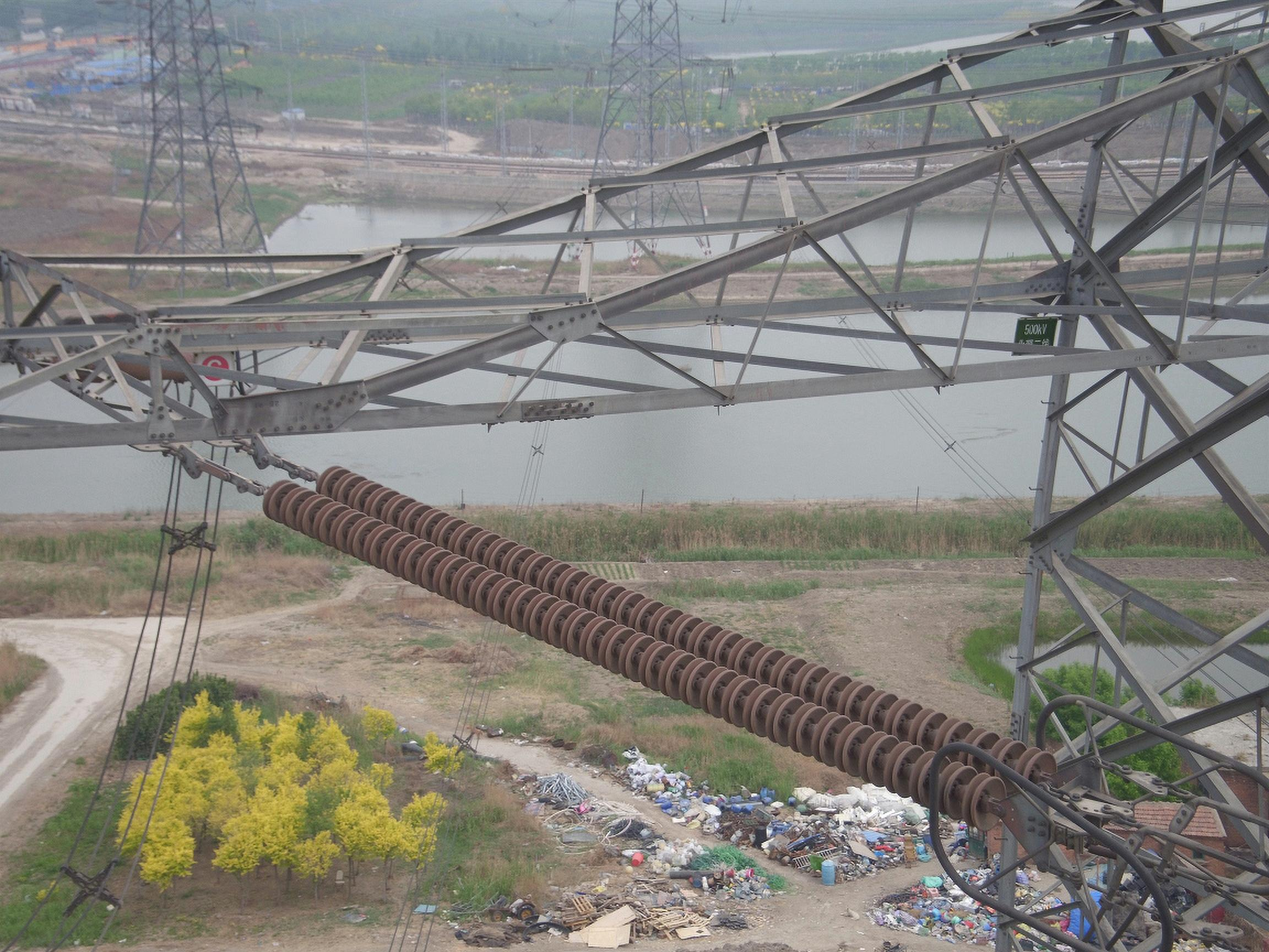insulator: (257, 461, 1062, 837)
